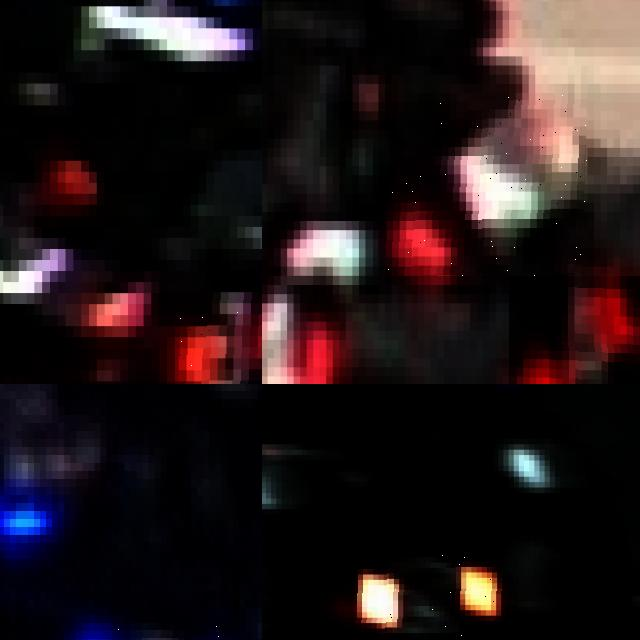R3: (175, 259, 262, 384)
R4: (385, 93, 588, 276), (509, 275, 640, 384), (262, 267, 339, 384)
Rs: (354, 552, 519, 640)
